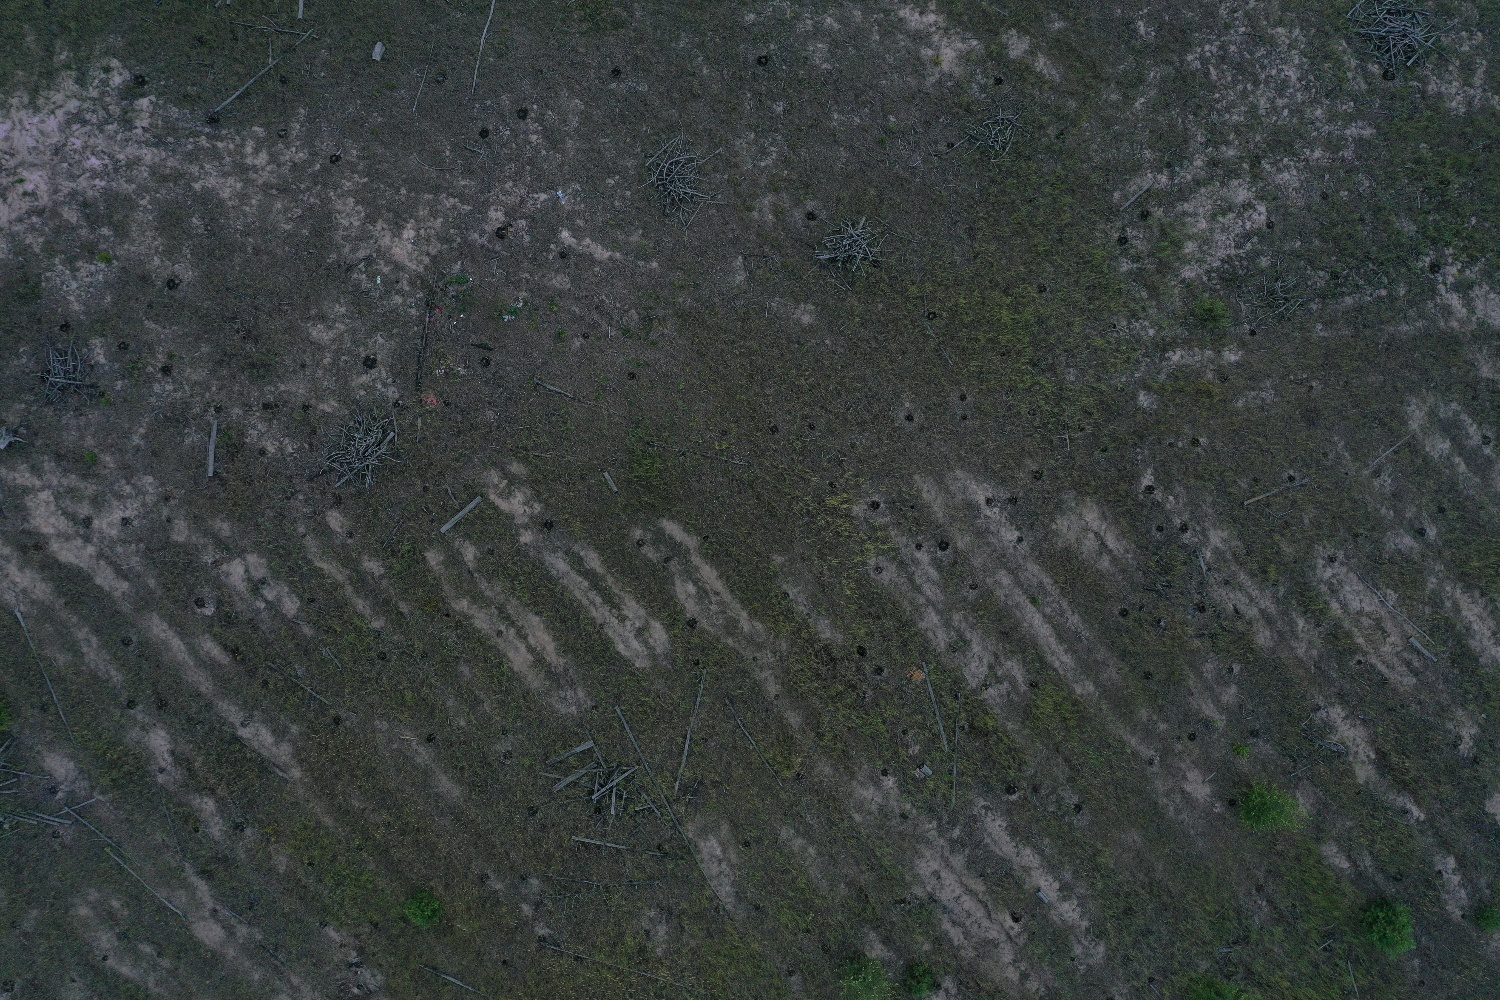branches: (1347, 1, 1459, 68), (645, 138, 723, 220), (1237, 254, 1316, 334), (323, 412, 400, 488), (816, 214, 892, 273), (40, 338, 97, 403), (967, 114, 1028, 155), (590, 765, 641, 815)
